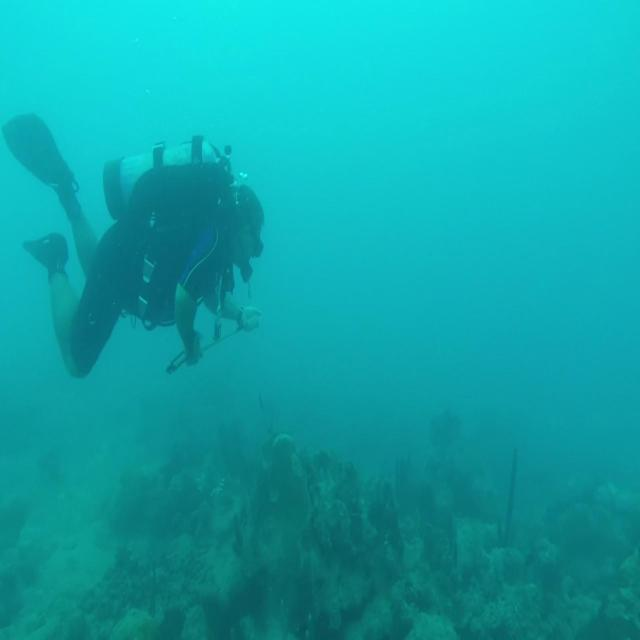human: (1, 110, 265, 379)
